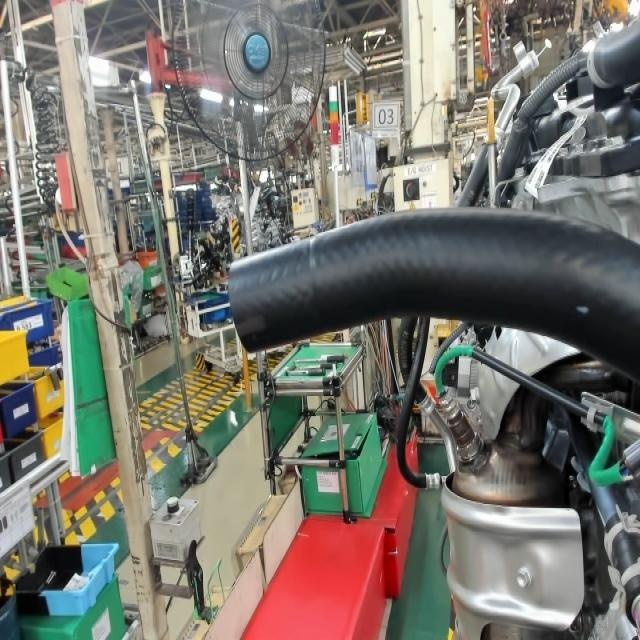Hose Radiator-PC: (235, 306, 269, 344)
